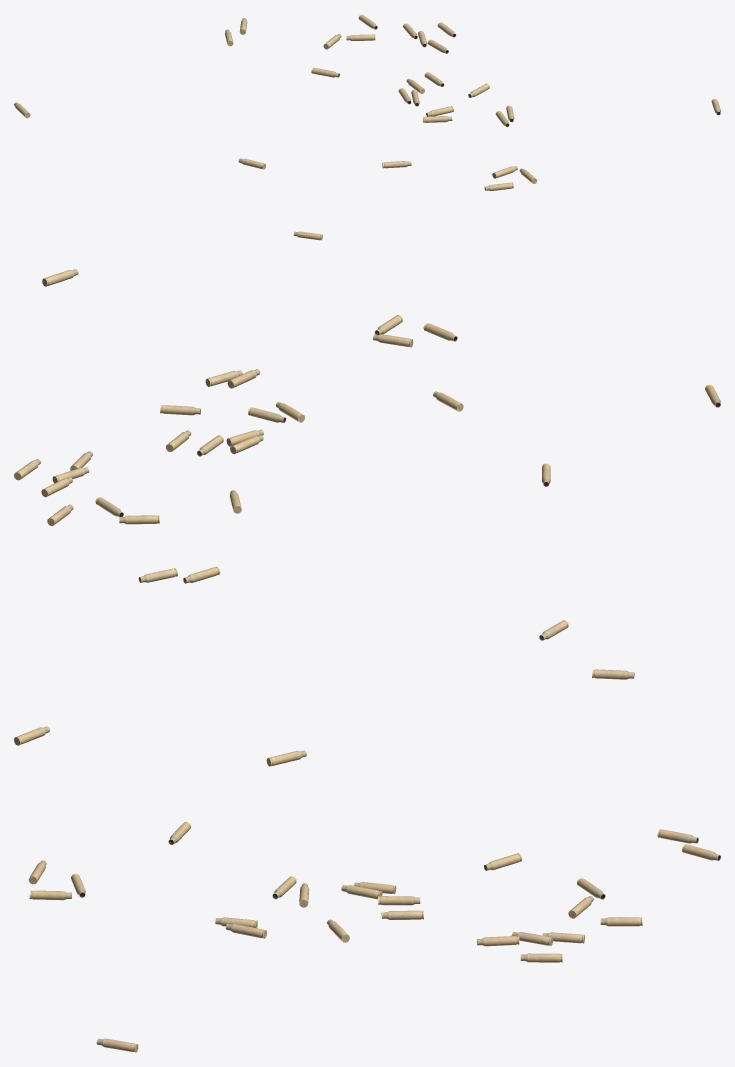
The model's file is SM_Ammo_Pile_01b.glb.
3 renders of one model, top to bottom at view 1: azimuth 30°, elevation 25°; view 2: azimuth 150°, elevation 25°; view 3: azimuth 270°, elevation 25°, orthographic. The views are drawn at different scales.
Parts seen in each view (by area): view 1: SM_Ammo_Pile_01b; view 2: SM_Ammo_Pile_01b; view 3: SM_Ammo_Pile_01b.
Part boxes in pixels (bbox=[...]): SM_Ammo_Pile_01b: bbox=[14, 14, 720, 240]; SM_Ammo_Pile_01b: bbox=[14, 269, 720, 640]; SM_Ammo_Pile_01b: bbox=[14, 669, 720, 1052].
Bounding box in the file's own units: 1.02 × 0.0103 × 0.8035.
1 material, 1 textured.
